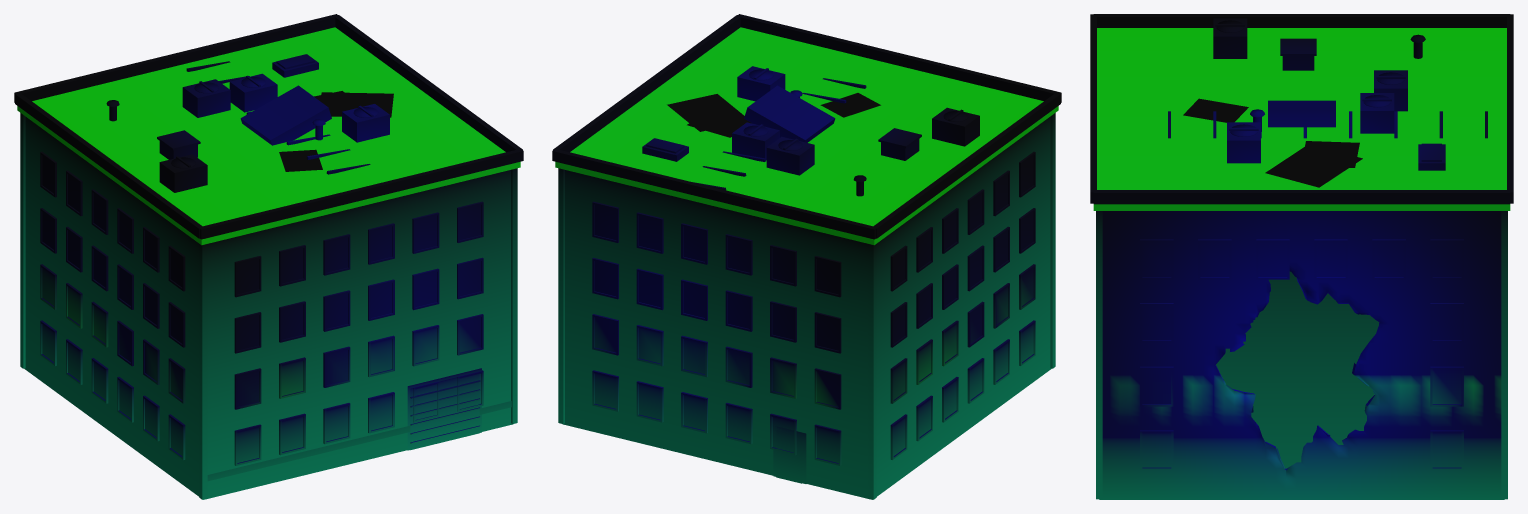
File: city4storyb_damaged.glb
3 views of the same model, side by side, from view 1: azimuth 30°, elevation 25°; view 2: azimuth 150°, elevation 25°; view 3: azimuth 270°, elevation 25° (orthographic). The views are drawn at different scales.
Visible parts, largest first — view 1: lod0; view 2: lod0; view 3: lod0.
Boxes of the visible parts, x1=… form: lod0: x1=14, y1=14, x2=523, y2=499; lod0: x1=552, y1=14, x2=1061, y2=499; lod0: x1=1090, y1=14, x2=1513, y2=499.
Size of what is drawn, in the model's own units: 18.7 by 15.95 by 18.7.
